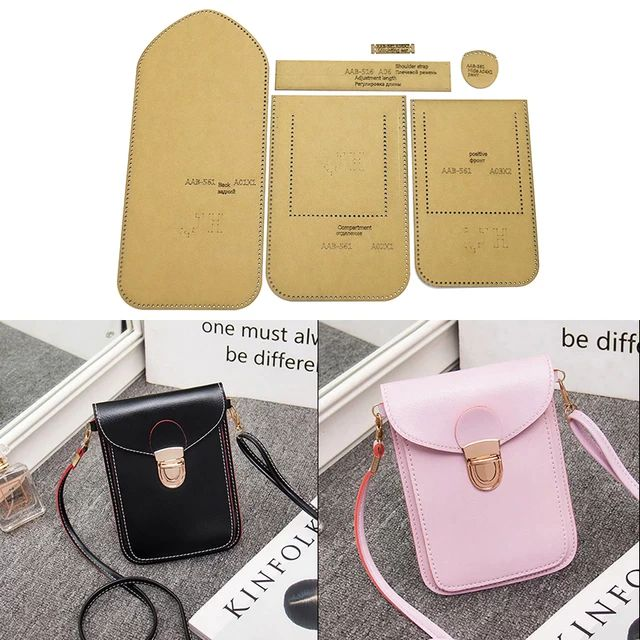cuero: (56, 355, 640, 640)
